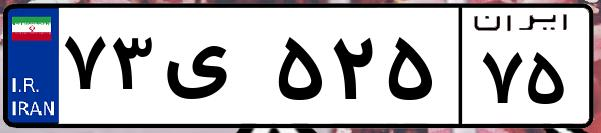2: (330, 28, 385, 110)
3: (110, 28, 158, 98)
5: (270, 28, 330, 110), (385, 28, 445, 110), (525, 38, 570, 115)
7: (57, 26, 110, 100), (475, 38, 525, 113)
ی: (158, 20, 270, 120)
